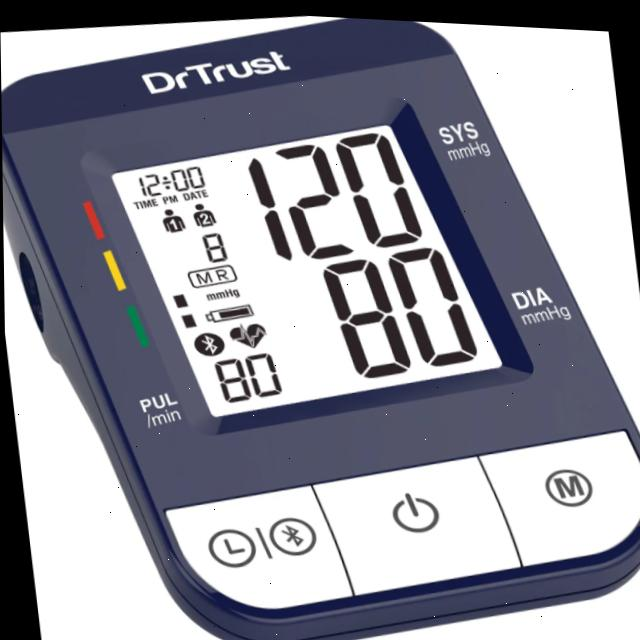dia: (306, 225, 498, 386)
pul: (201, 335, 297, 411)
ssd: (110, 107, 504, 427)
sys: (228, 111, 441, 265)
